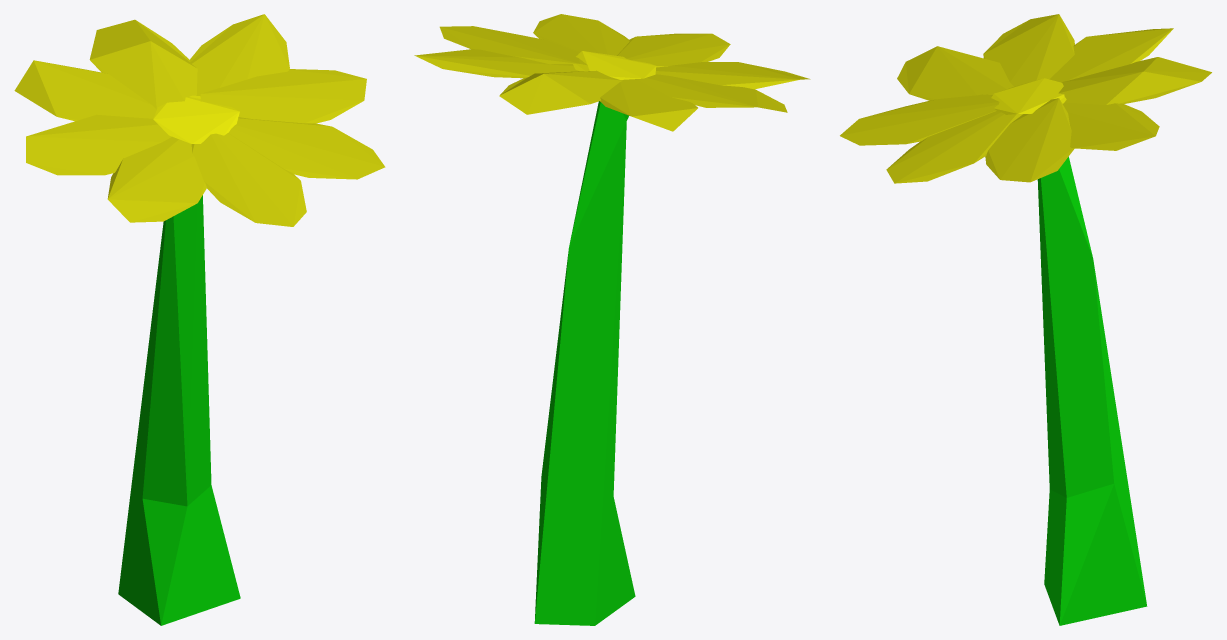
Rendered from Flower#2.fbx.
3 renders of one model, left to right at view 1: azimuth 30°, elevation 25°; view 2: azimuth 150°, elevation 25°; view 3: azimuth 270°, elevation 25°, orthographic. The views are drawn at different scales.
Visible parts, largest first — view 1: Flower#2; view 2: Flower#2; view 3: Flower#2.
Part boxes in pixels (<box>): Flower#2: <box>14,14,385,625</box>; Flower#2: <box>414,14,810,625</box>; Flower#2: <box>840,14,1211,625</box>.
Bounding box in the file's own units: 25.68 × 38.77 × 24.66.
